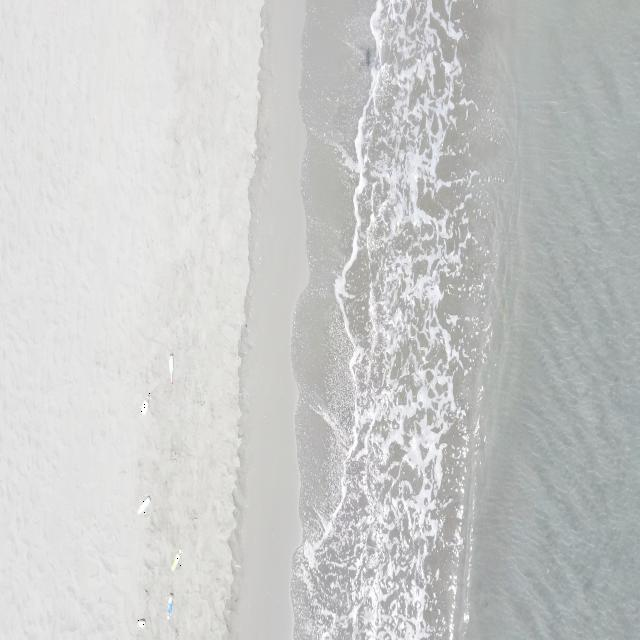Garbage: (136, 495, 150, 513), (140, 392, 150, 413), (171, 548, 180, 571), (167, 592, 172, 619), (168, 352, 172, 383), (136, 617, 144, 627)
